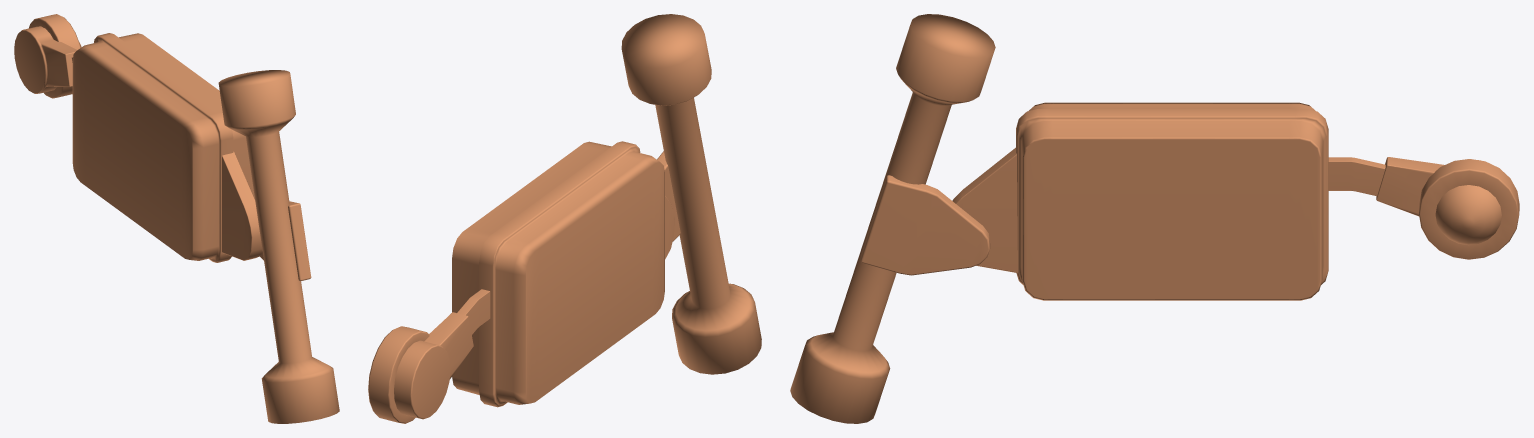
3 views of the same model, side by side, from view 1: azimuth 30°, elevation 25°; view 2: azimuth 150°, elevation 25°; view 3: azimuth 270°, elevation 25° (orthographic). The views are drawn at different scales.
Parts seen in each view (by area): view 1: a2_low, a1_low; view 2: a2_low, a1_low; view 3: a2_low, a1_low.
Part boxes in pixels (x1,y1,x2,y2): a2_low: (14,14,311,281); a1_low: (72,42,339,423); a2_low: (368,141,680,423); a1_low: (457,14,761,374); a2_low: (860,102,1519,300); a1_low: (790,14,1501,423).
Size of the model in its own units: 7.57 by 33.6 by 57.12.
